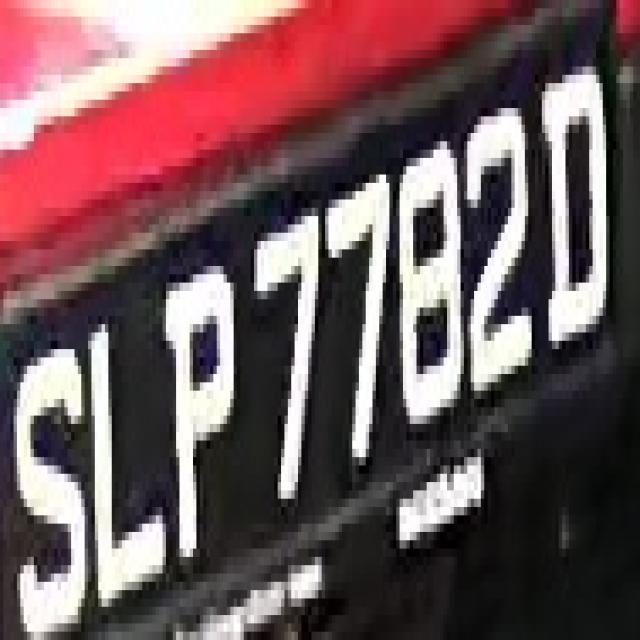2: (457, 100, 542, 424)
7: (318, 158, 403, 507), (250, 191, 332, 540)
8: (383, 142, 467, 432)
D: (538, 25, 613, 357)
L: (81, 266, 173, 632)
P: (156, 241, 240, 574)
S: (13, 282, 88, 640)
